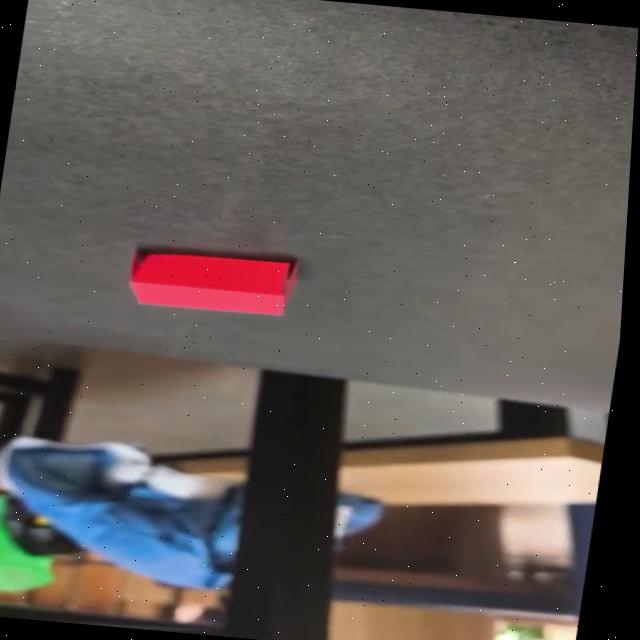red block: (124, 246, 300, 318)
